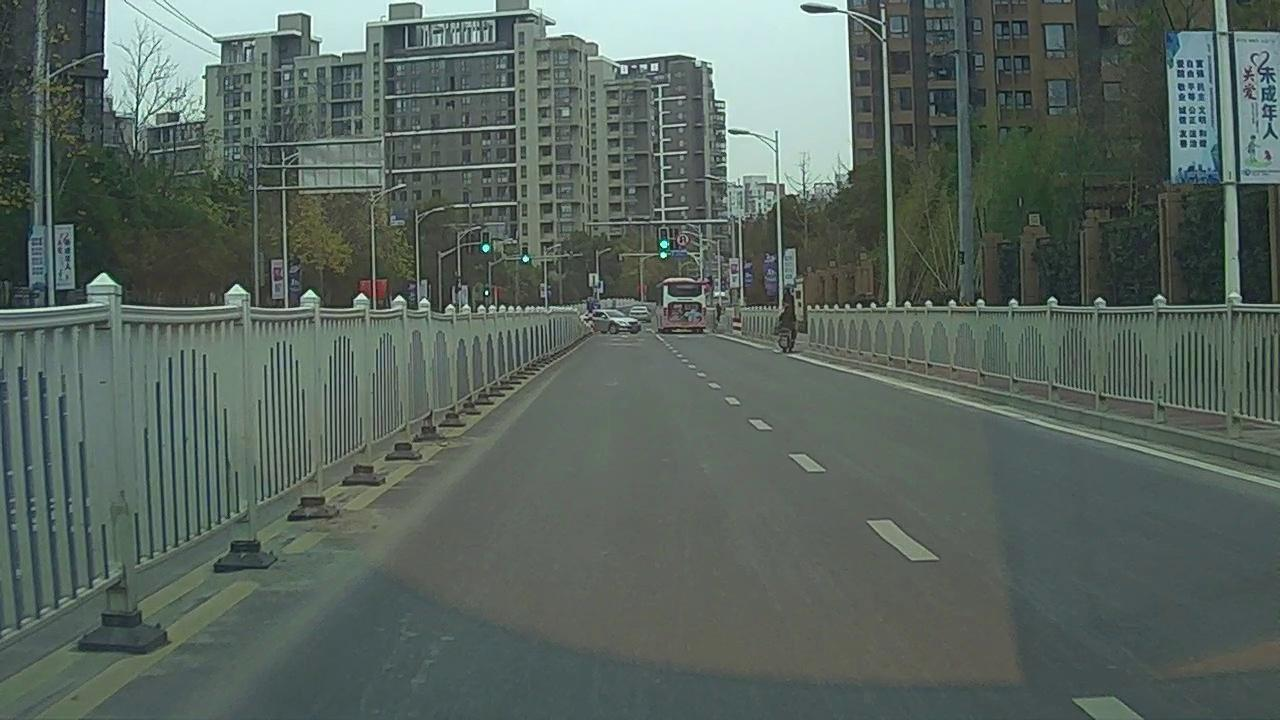traffic_light: (483, 233, 491, 253), (660, 229, 668, 249), (523, 247, 530, 263)
